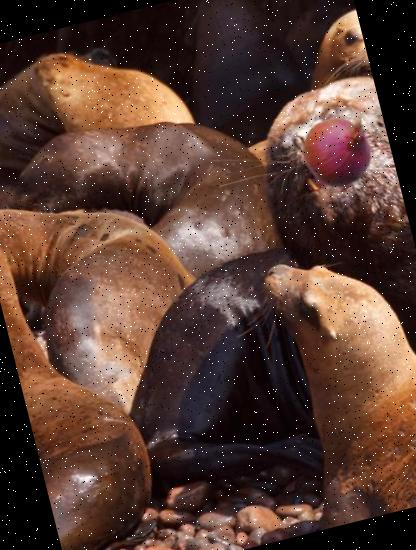Onion: (294, 104, 387, 196)
